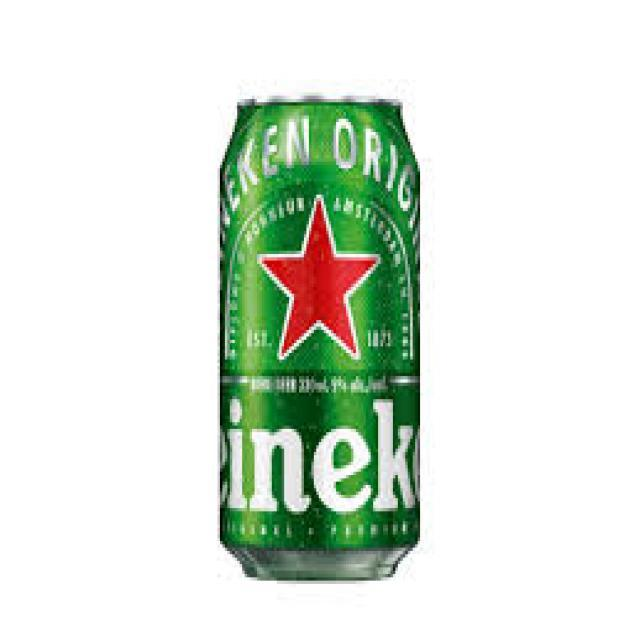recyclable: (220, 97, 420, 579)
